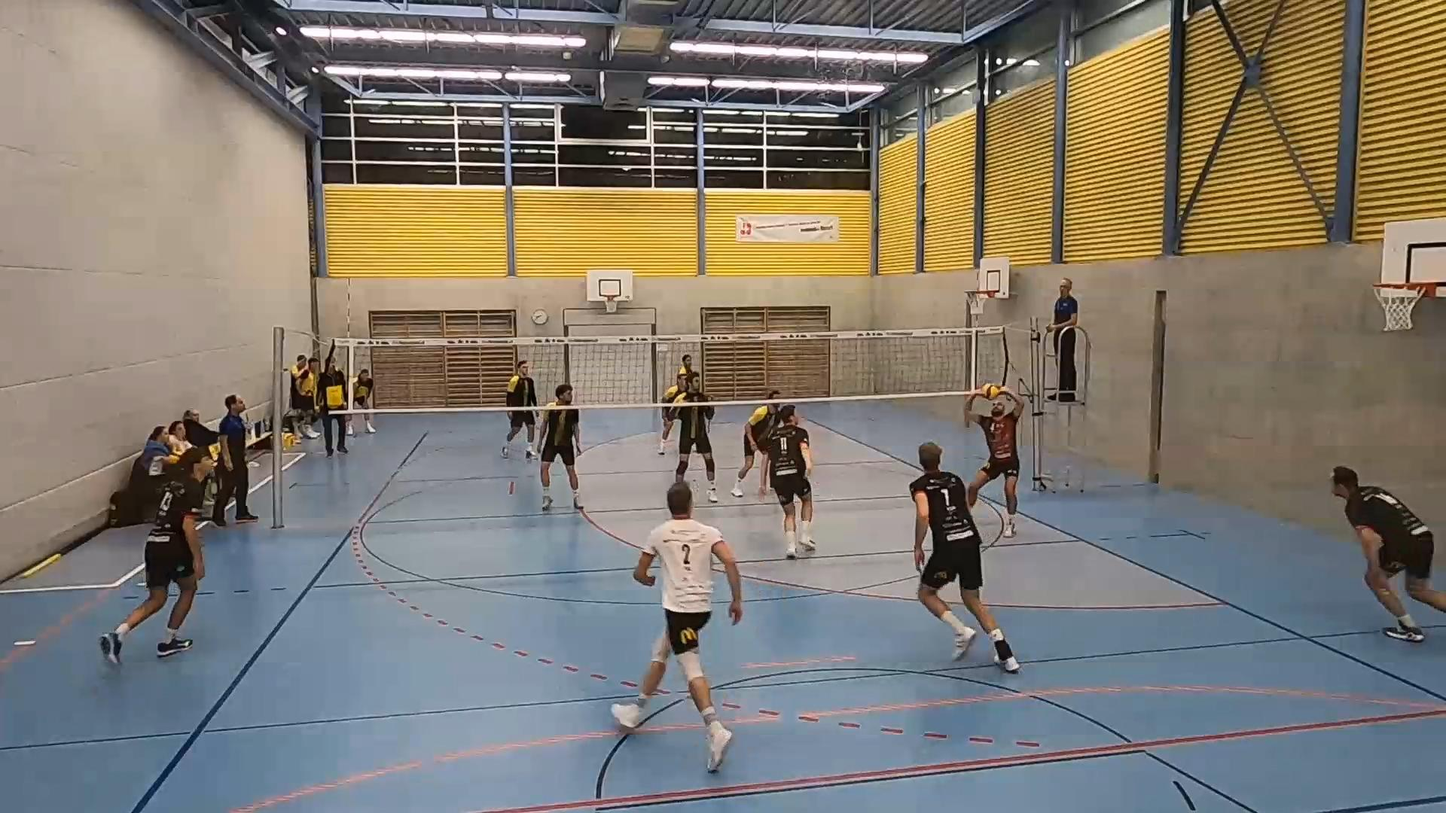Player: (612, 481, 742, 771), (910, 443, 1019, 673), (99, 447, 213, 663), (1332, 467, 1445, 642), (764, 405, 815, 559), (674, 373, 717, 502), (539, 384, 582, 510), (731, 403, 776, 497), (502, 360, 537, 459), (657, 406, 676, 455), (678, 354, 694, 378)
Set: (954, 386, 1025, 521)
ball: (978, 386, 1005, 400)
